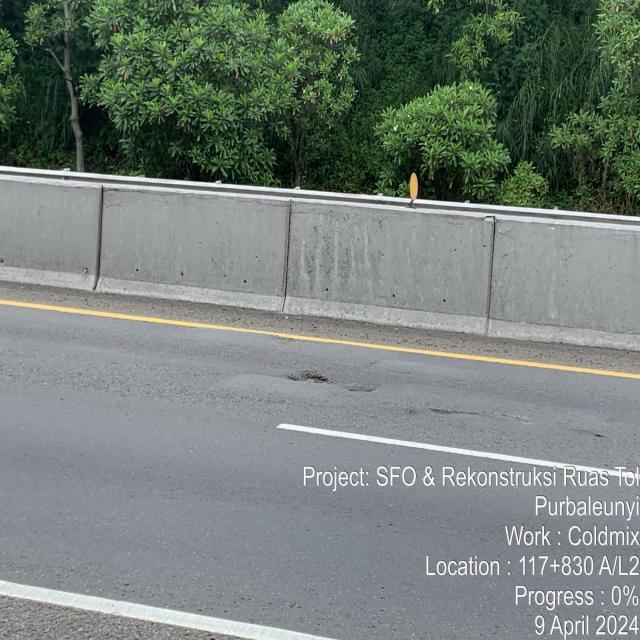Buraco: (422, 401, 484, 418), (284, 369, 332, 386), (340, 380, 384, 396)
